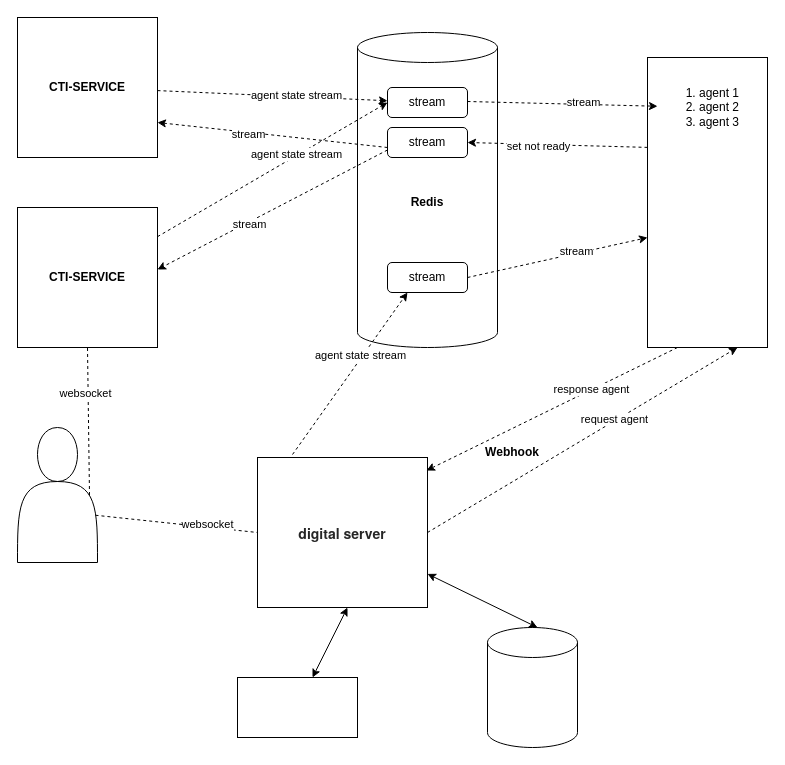
Some shapes in this 785 by 765 pixel diagram are drawn without their labels. Each missing label, with the box of its shape:
Agent: (16, 426, 98, 562)
DB cedar agent config: (486, 626, 578, 748)
IRE: (646, 56, 768, 348)
other（gateway）: (236, 676, 358, 738)
